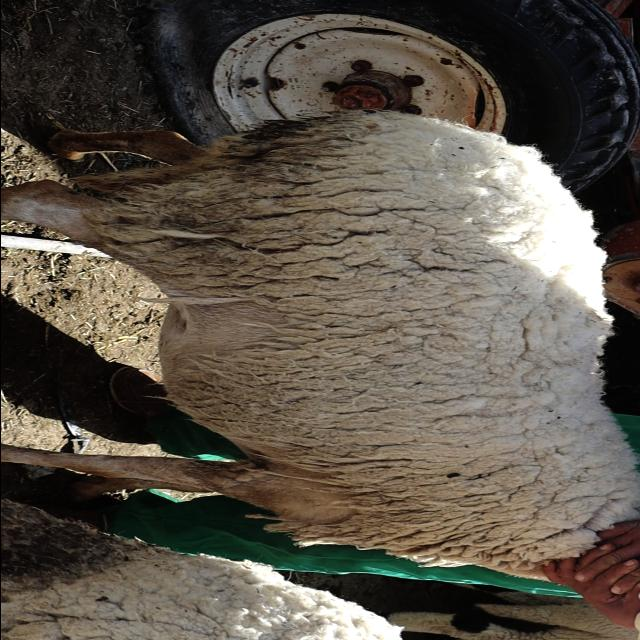Score_5: (1, 110, 640, 579)
